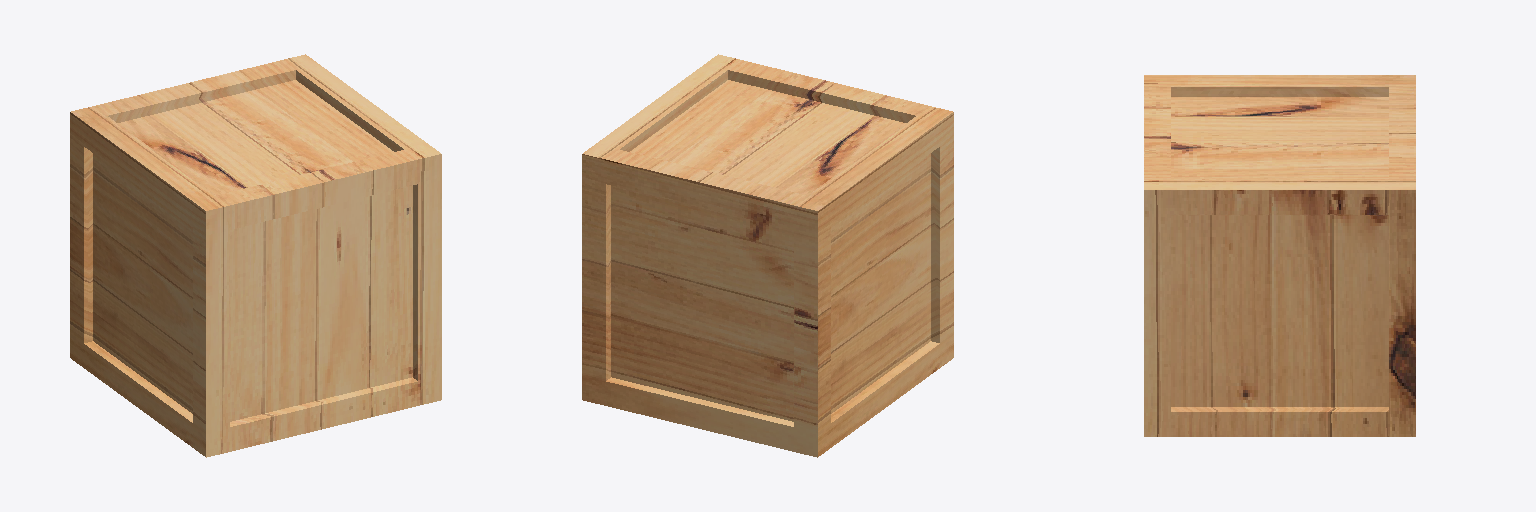
3 renders of one model, left to right at view 1: azimuth 30°, elevation 25°; view 2: azimuth 150°, elevation 25°; view 3: azimuth 270°, elevation 25°, orthographic.
Parts seen in each view (by area): view 1: pCube1_lambert1_0; view 2: pCube1_lambert1_0; view 3: pCube1_lambert1_0.
Part boxes in pixels (left/top/right/bottom): pCube1_lambert1_0: left=70, top=54, right=441, bottom=457; pCube1_lambert1_0: left=582, top=54, right=953, bottom=457; pCube1_lambert1_0: left=1144, top=75, right=1415, bottom=436.
Size of the model in its own units: 10 by 10 by 10.
1 materials, 1 textured.